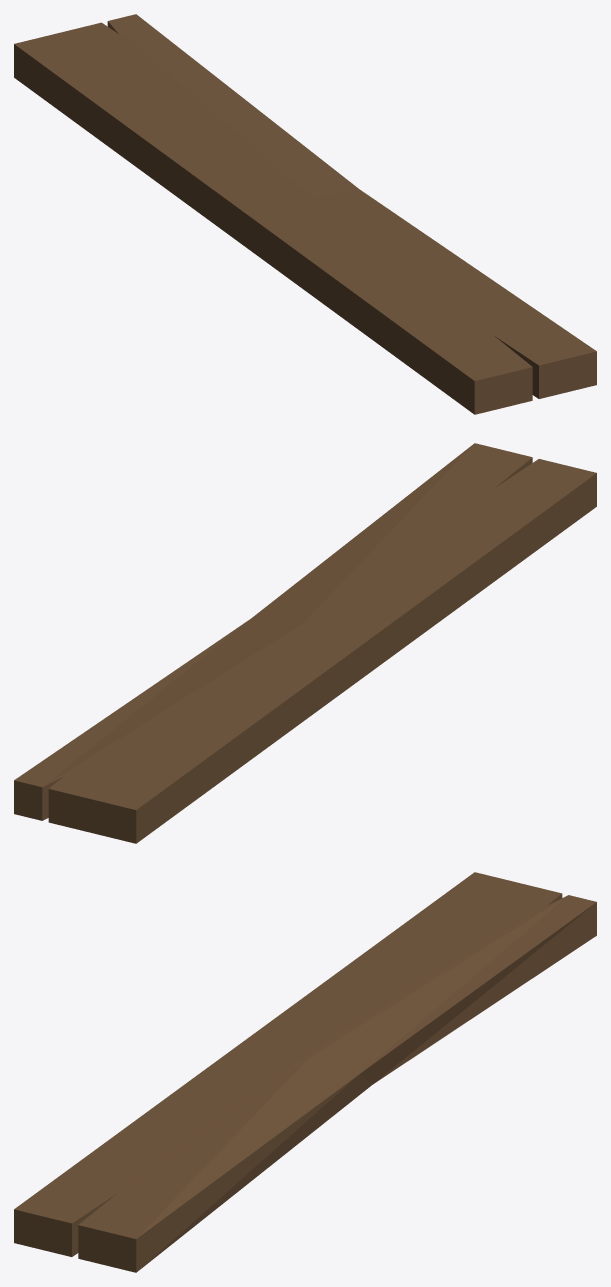
File: Desk_04.fbx
The picture shows the model from 3 angles, top to bottom: view 1: azimuth 30°, elevation 25°; view 2: azimuth 150°, elevation 25°; view 3: azimuth 330°, elevation 25°; orthographic projection.
Parts seen in each view (by area): view 1: Desk_04; view 2: Desk_04; view 3: Desk_04.
Part boxes in pixels (<box>): Desk_04: <box>14,14,596,414</box>; Desk_04: <box>14,443,596,843</box>; Desk_04: <box>14,872,596,1272</box>.
Bounding box in the file's own units: 0.4157 × 0.1095 × 2.71.
